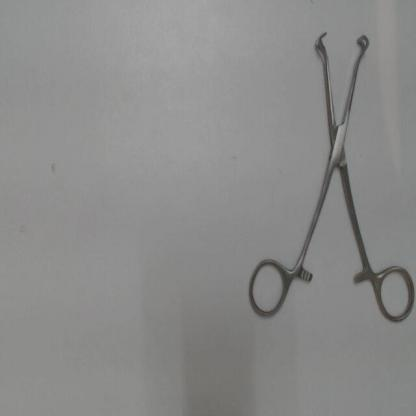Babcock Tissue Forceps: (241, 26, 415, 331)
